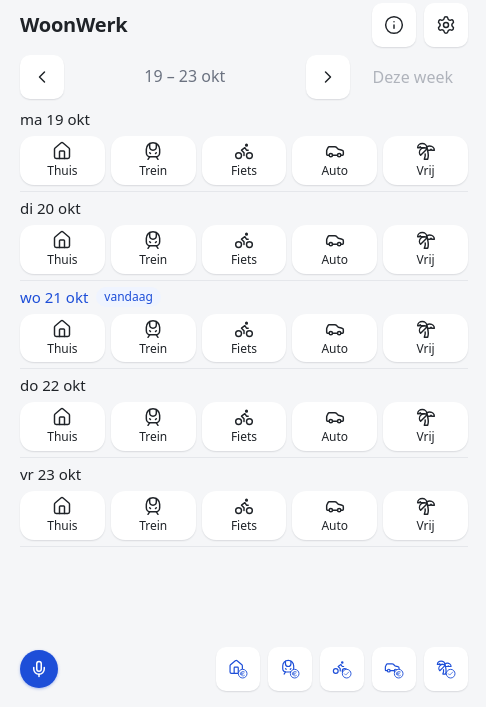
Test case: AC47: inspreken met de microfoonknop › laat zien dat hij luistert en stopt bij nog een tik
Click the button named "Inspreken".
click(39, 669)  # box x1=20 y1=650 x2=58 y2=688
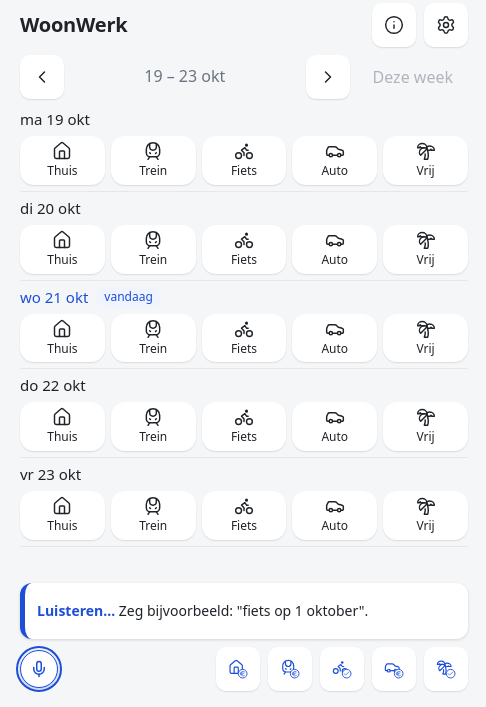
Expected: the text "Luisteren…" is shown, x1=37 y1=601 x2=115 y2=620
Click the button named "Stoppen met luisteren".
click(39, 669)  # box x1=20 y1=650 x2=58 y2=688
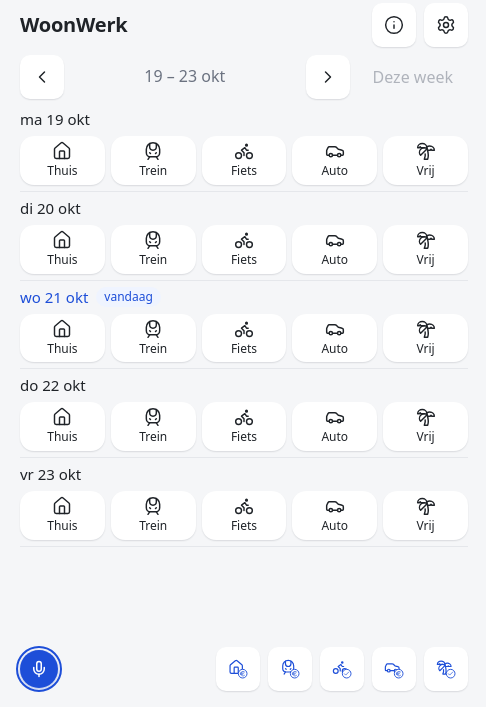
Expected: the text "Luisteren…" is gone
Expected: the button named "Inspreken" is shown, x1=20 y1=650 x2=58 y2=688
